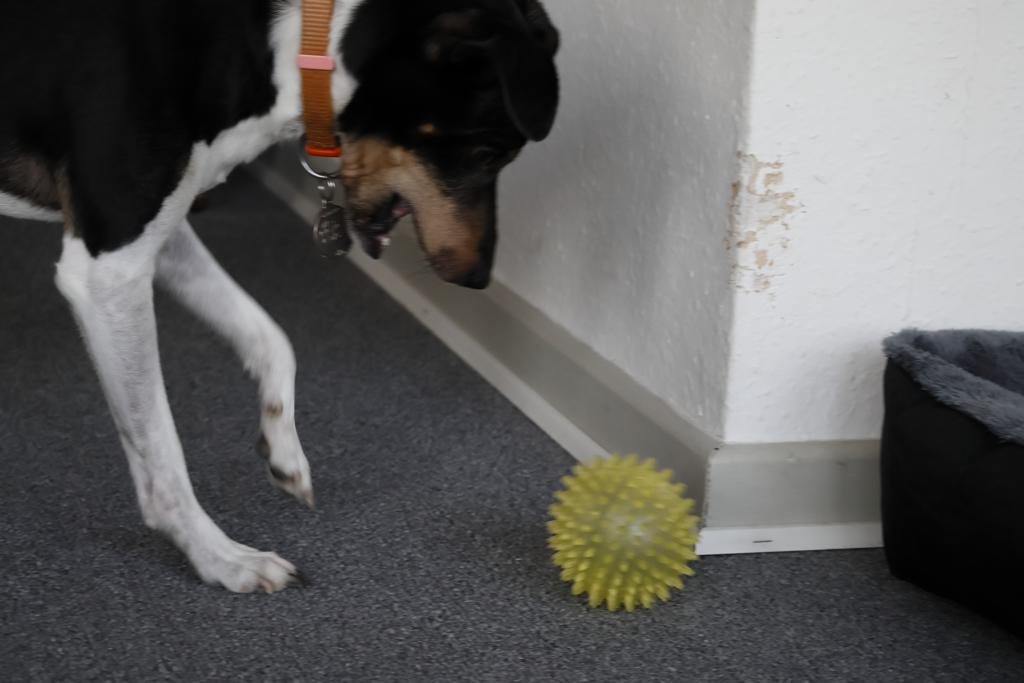Dog: (0, 0, 572, 605)
